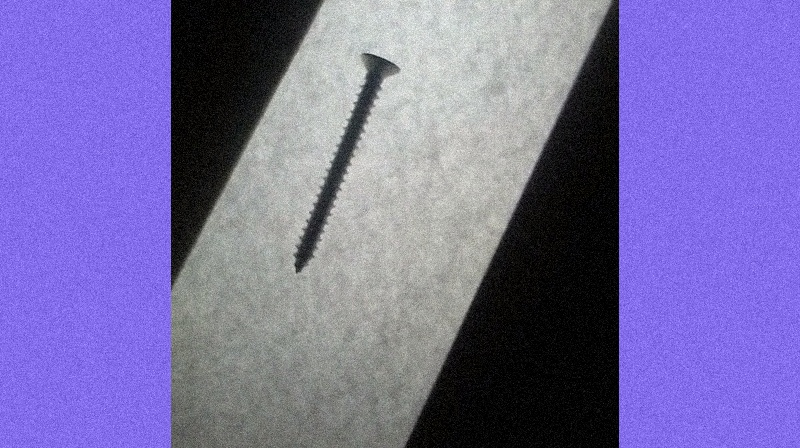S002: (288, 45, 404, 277)
